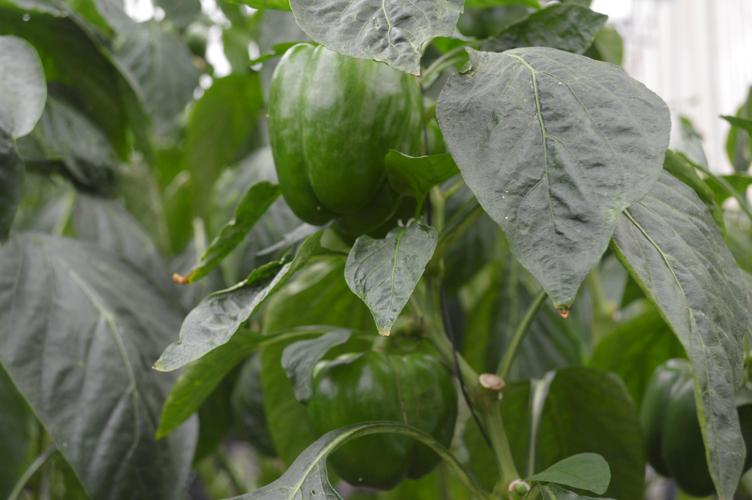BellPepper: (265, 35, 436, 235), (287, 327, 458, 491), (639, 339, 751, 499)
